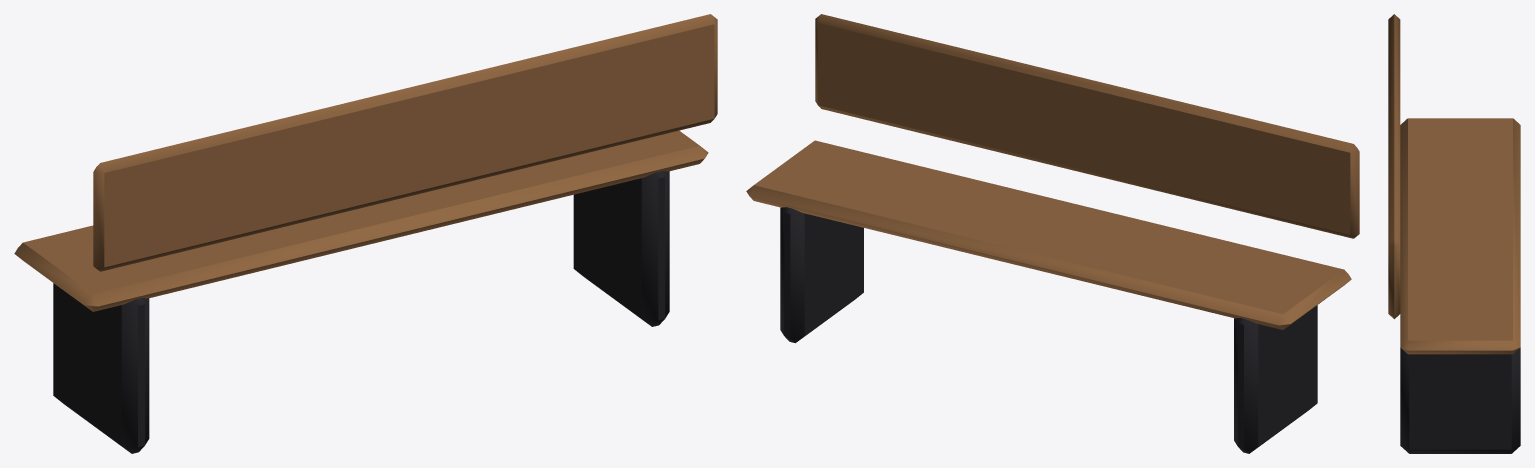
The model's file is Bench.fbx.
The picture shows the model from 3 angles, left to right: view 1: azimuth 30°, elevation 25°; view 2: azimuth 150°, elevation 25°; view 3: azimuth 270°, elevation 25°; orthographic projection. The views are drawn at different scales.
Visible parts, largest first — view 1: Bench; view 2: Bench; view 3: Bench.
Boxes of the visible parts, x1=… form: Bench: x1=14, y1=14, x2=717, y2=453; Bench: x1=746, y1=14, x2=1359, y2=453; Bench: x1=1388, y1=14, x2=1520, y2=453.
Bounding box in the file's own units: 1.8 × 0.85 × 0.44.
